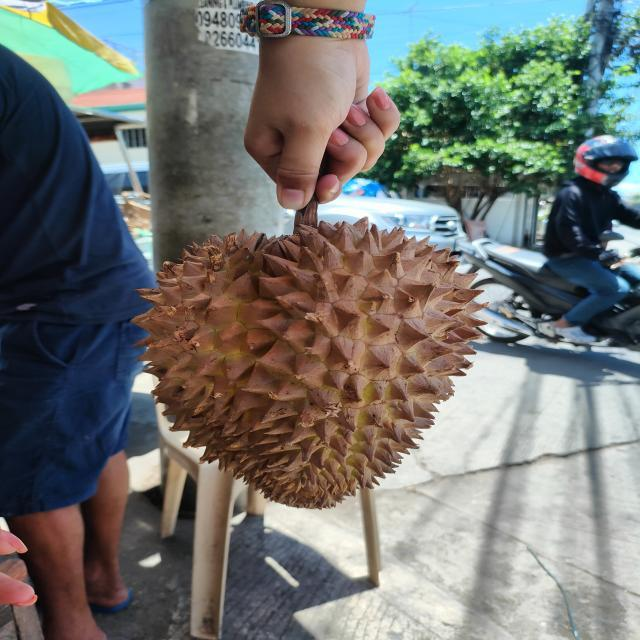mature: (133, 218, 487, 514)
